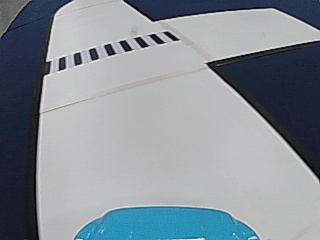CrossWalk: (50, 31, 175, 71)
